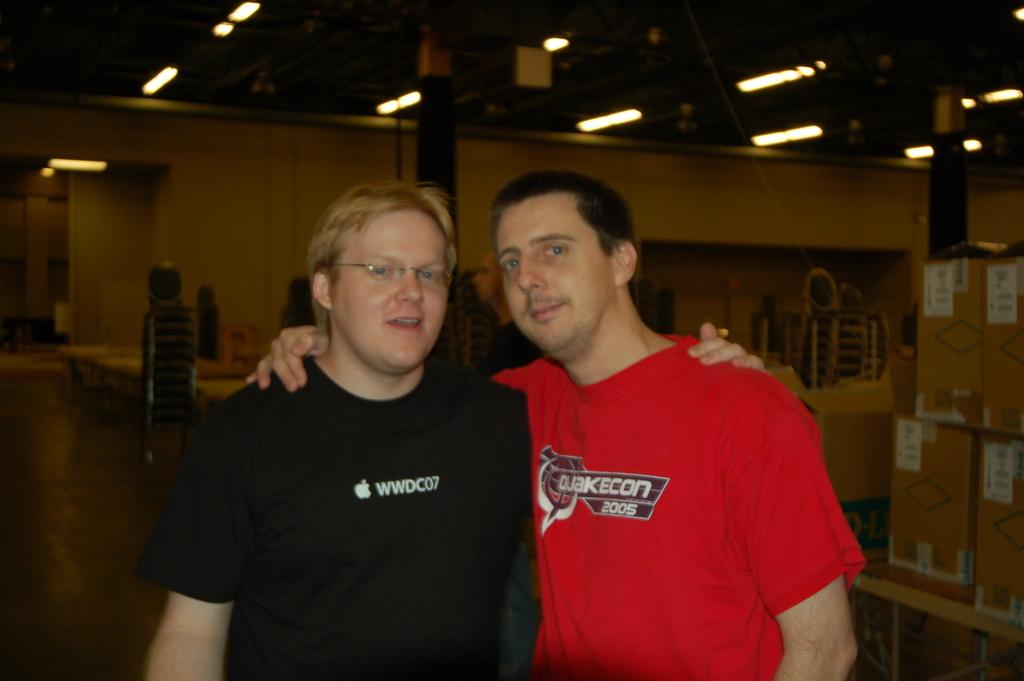Sem Máscara: (321, 214, 446, 373), (496, 199, 619, 346)
